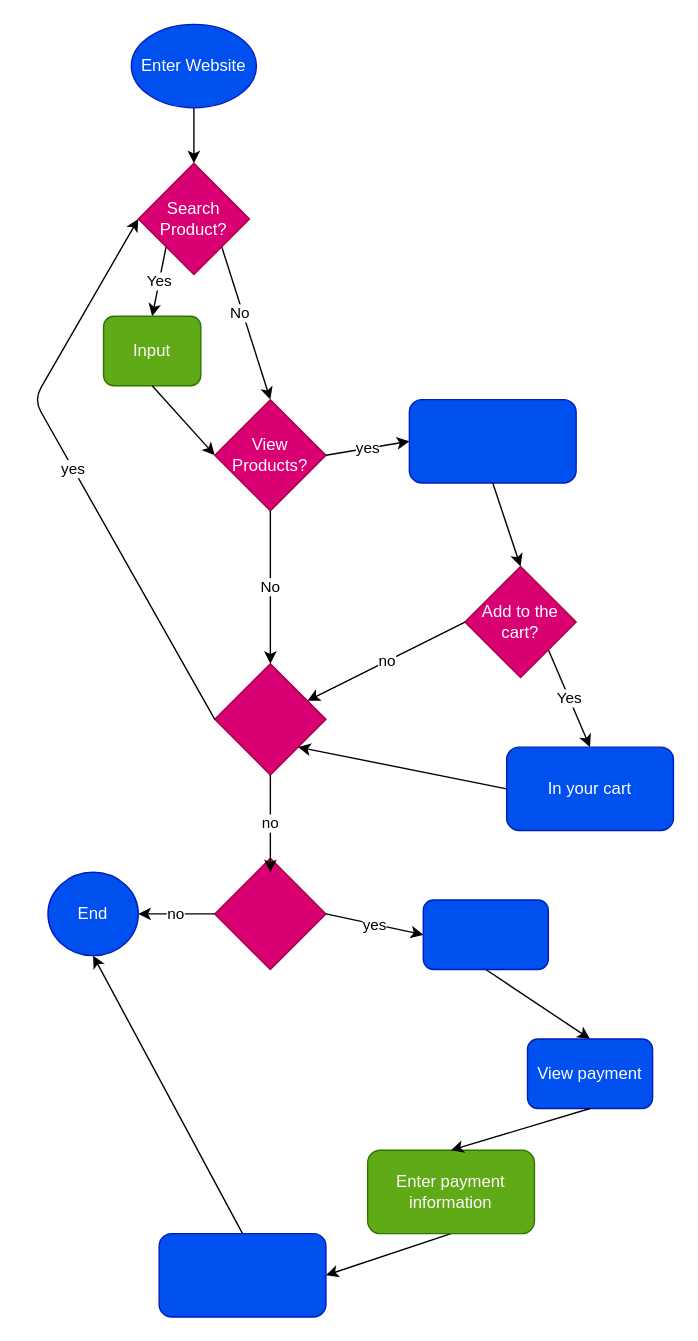
This 698x1341 diagram has some shape labels left out. Each missing label, with the centre of its shape:
Checkout?: the point at 269,913
Continue Shopping?: the point at 269,718
Open the webpage: the point at 492,440
Order conformation and email received: the point at 242,1274
View cart: the point at 485,934
